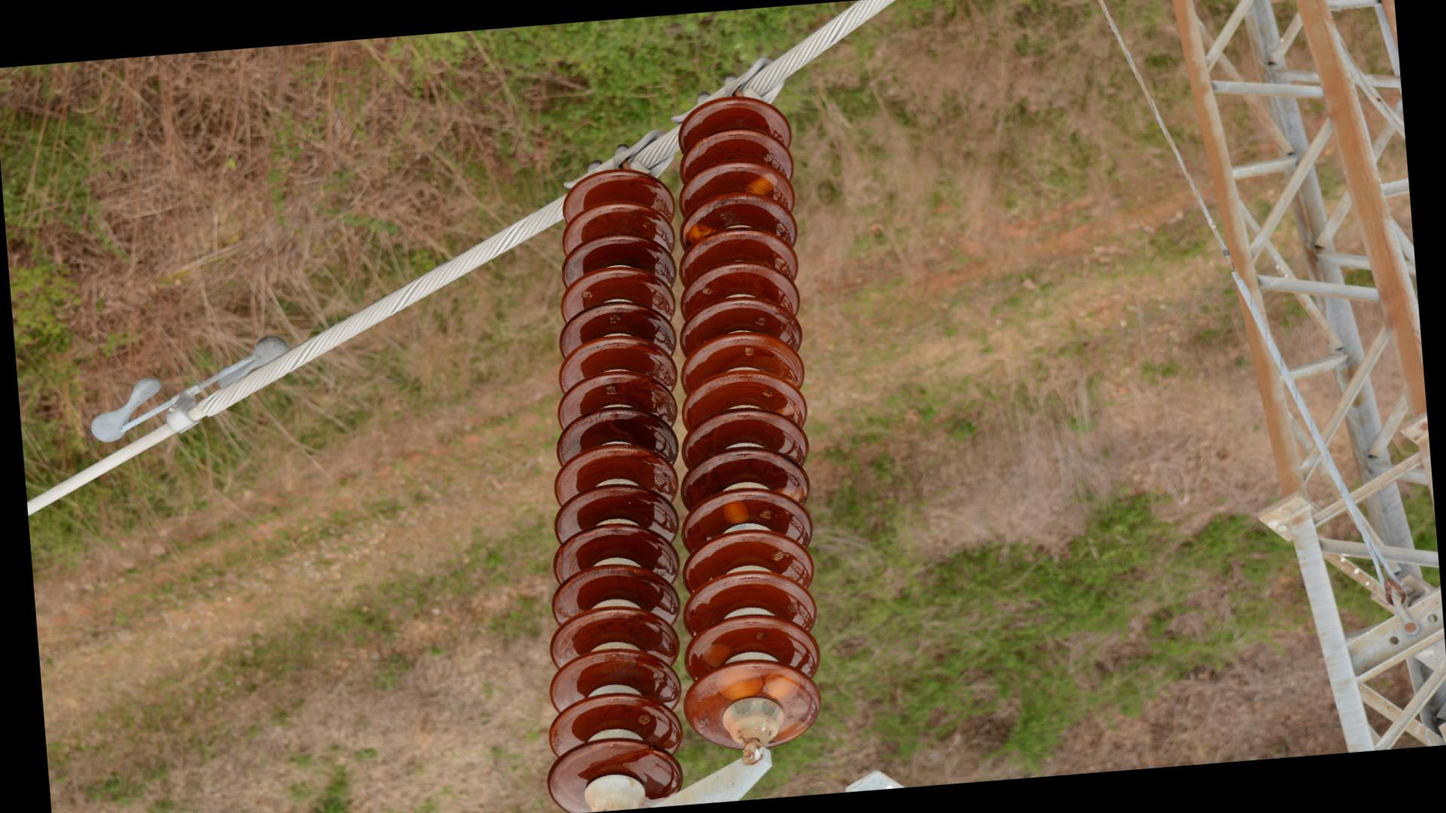damper: (80, 328, 304, 449)
